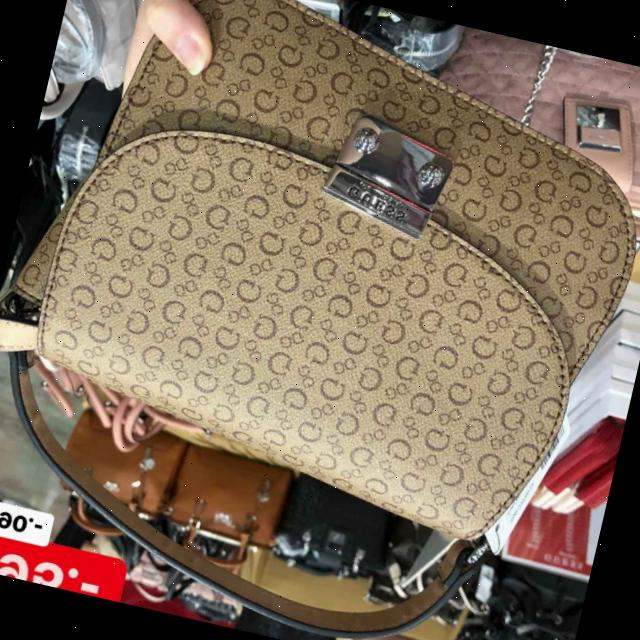Handbag: (0, 0, 640, 552)
